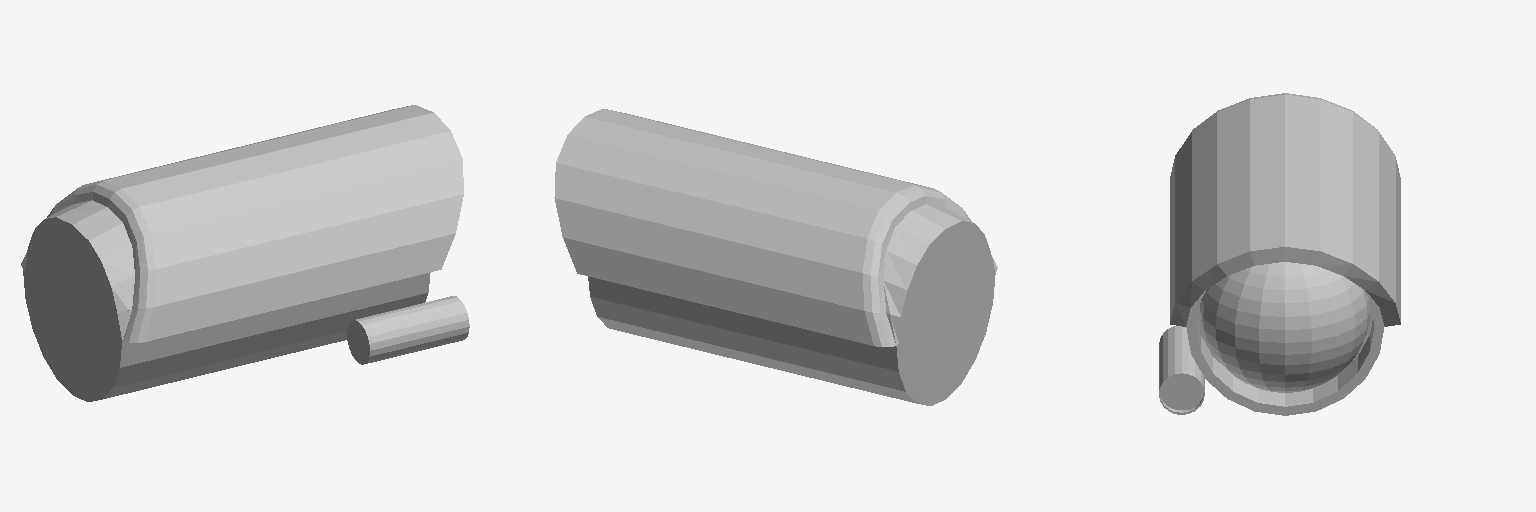
Rendered from Camera.obj.
3 renders of one model, left to right at view 1: azimuth 30°, elevation 25°; view 2: azimuth 150°, elevation 25°; view 3: azimuth 270°, elevation 25°, orthographic.
Parts seen in each view (by area): view 1: pCylinder1, pCylinder2; view 2: pCylinder1; view 3: pCylinder1, pSphere1, pCylinder2.
Boxes of the visible parts, <box> form: pCylinder1: <box>21,105,463,401</box>; pCylinder2: <box>347,296,469,364</box>; pCylinder1: <box>554,109,997,405</box>; pCylinder1: <box>1170,93,1400,415</box>; pSphere1: <box>1200,262,1370,392</box>; pCylinder2: <box>1159,326,1204,414</box>.
Size of the model in its own units: 4.2 by 2.17 by 2.44.